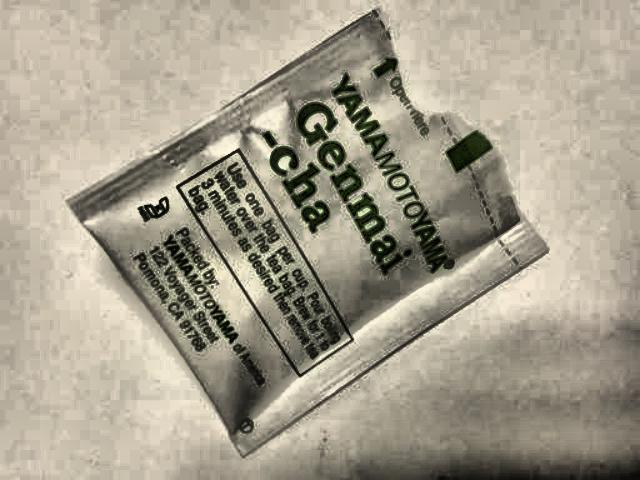Paper: (13, 4, 640, 478)
